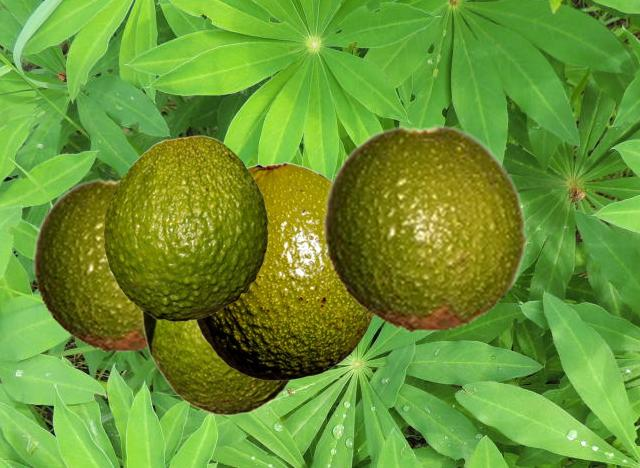avocado: (322, 124, 528, 332), (196, 162, 373, 379), (103, 135, 267, 320), (32, 177, 147, 352), (141, 312, 293, 415)
